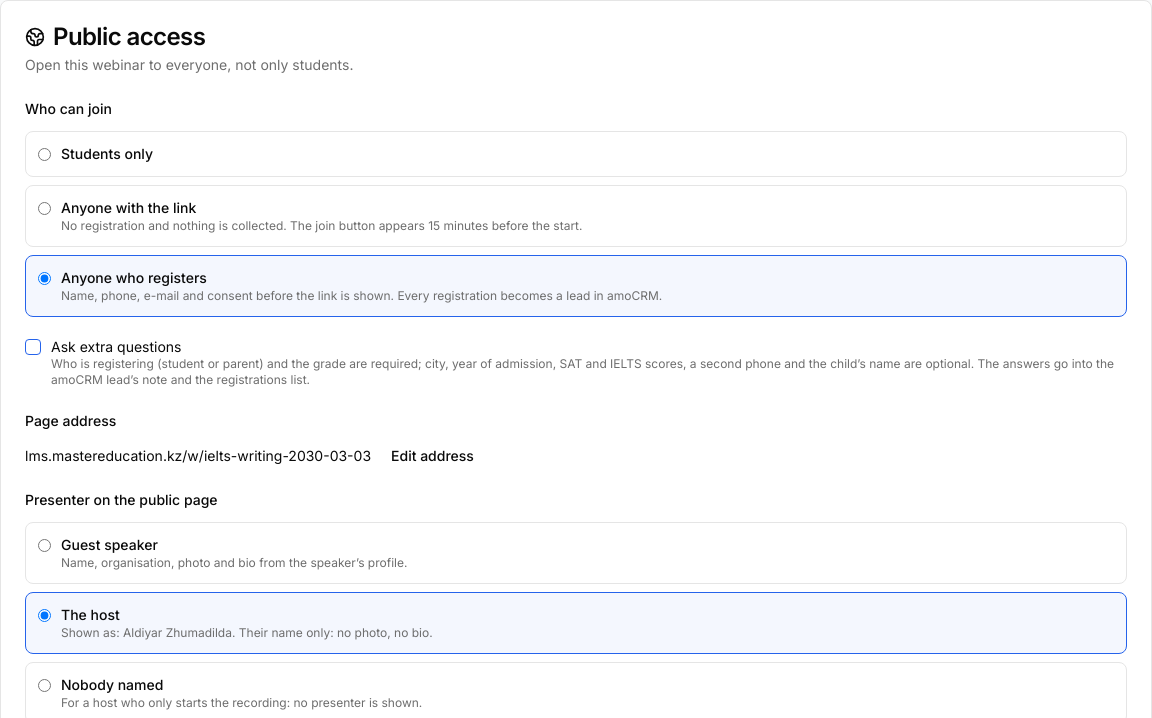
Test: a webinar’s public access card › shows the page address under an «Edit address» toggle instead of an empty box
Expected: the text "lms.mastereducation.kz/w/ielts-writing-2030-03-03" is shown, [25,446,371,466]
Click the button "Edit address". click: [432, 456]
box: [379,438,486,474]
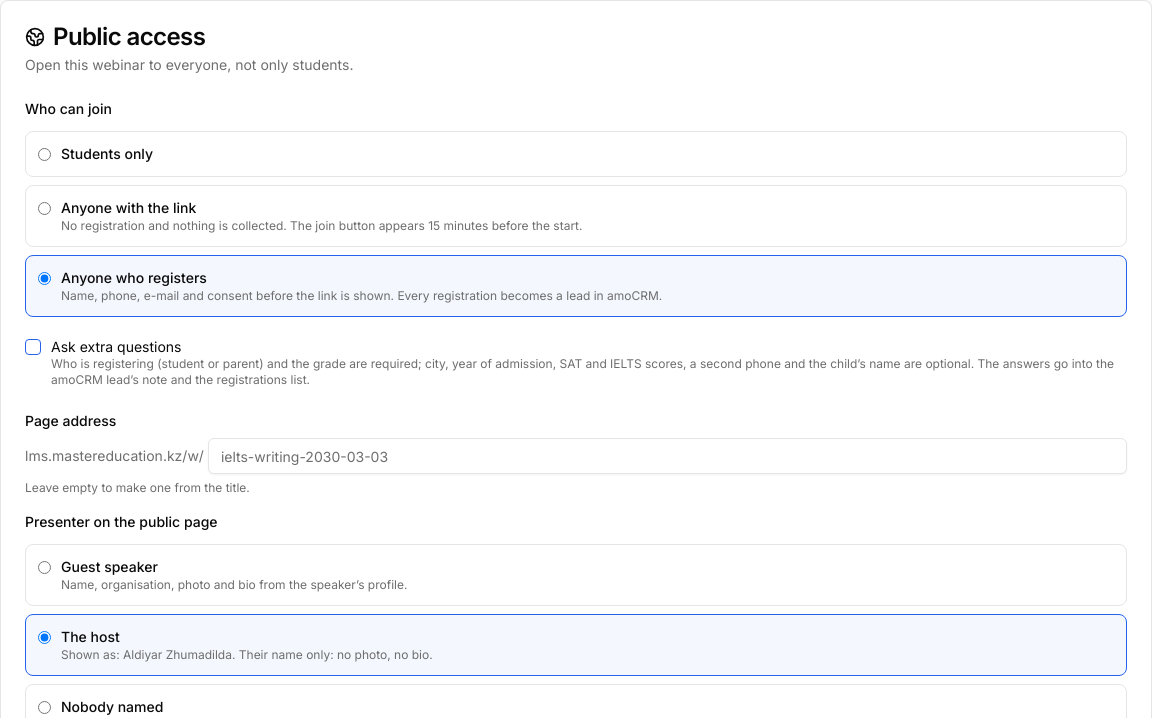
Expected: the field with id "ow-slug" holds "ielts-writing-2030-03-03", [208,438,1127,474]
